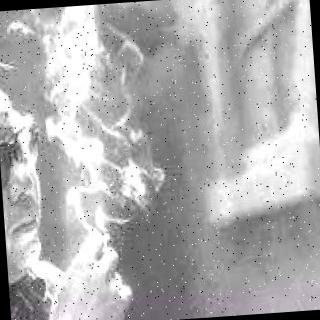smoke: (38, 3, 160, 242)
